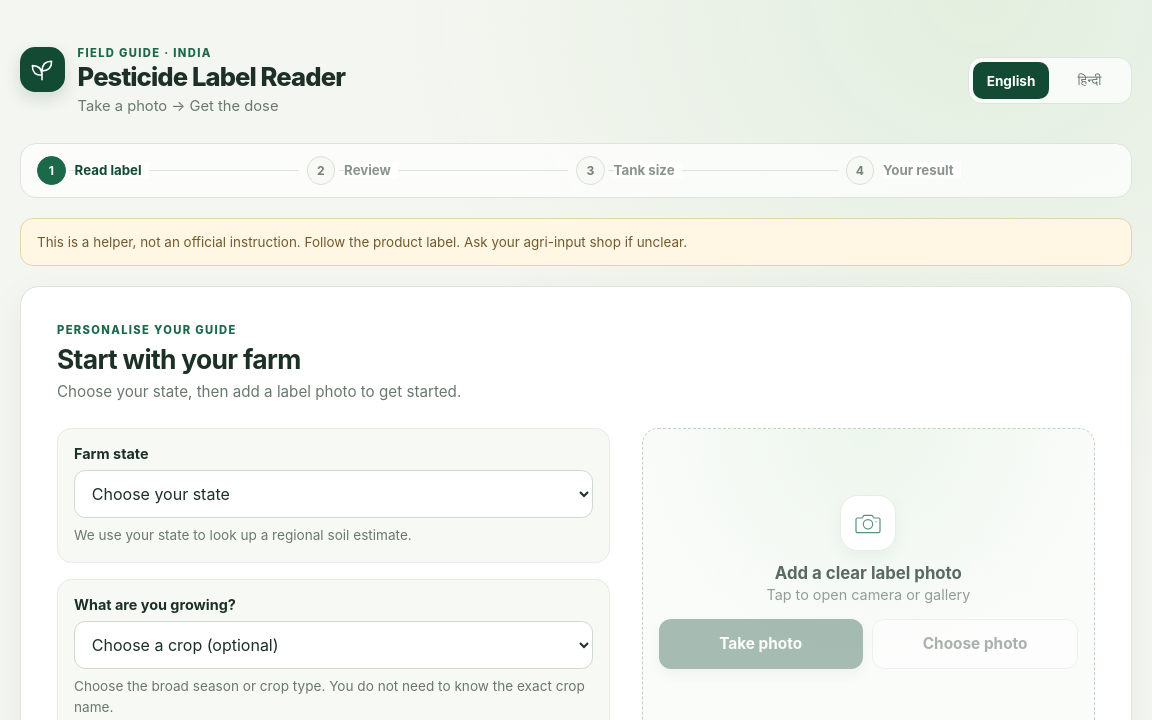
Test: Pesticide label reader flow › surfaces English or Hindi speech controls without changing label values
The width and height of the screenshot is (1152, 720).
Click the button "हिन्दी" at (1089, 81), box x1=1052 y1=62 x2=1127 y2=99
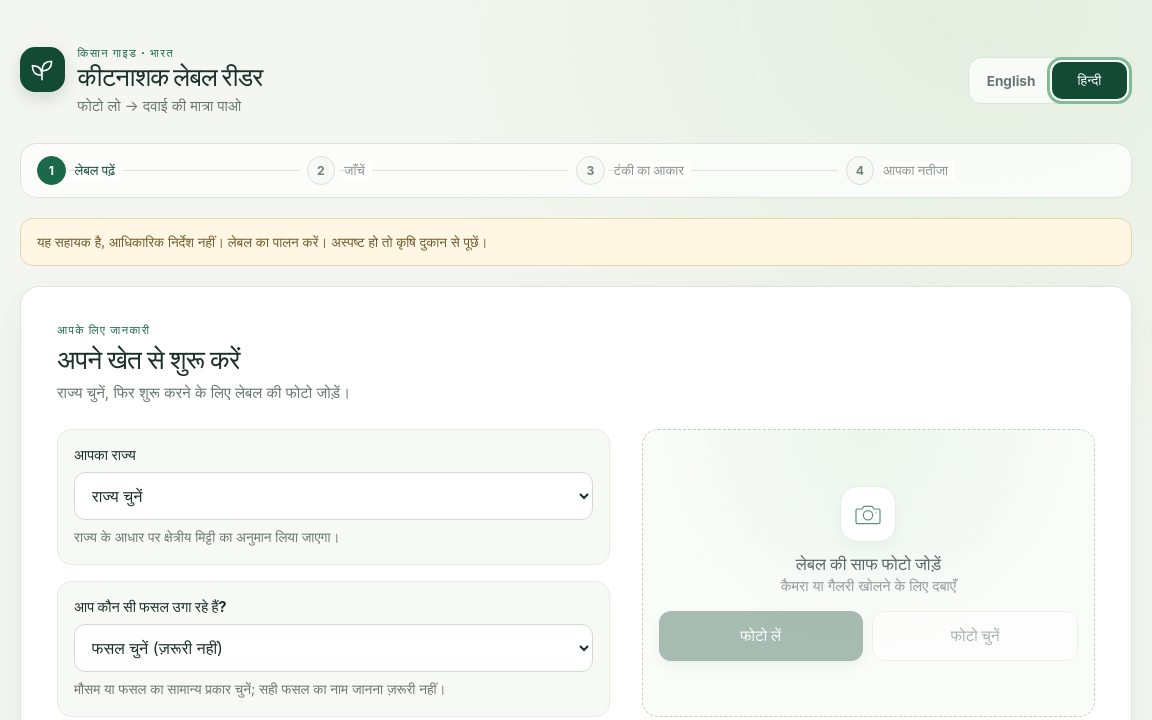
Check: the text "आपका राज्य" is shown, box x1=74 y1=446 x2=136 y2=463
Check: the text "कैमरा या गैलरी खोलने के लिए दबाएँ" is shown, box x1=781 y1=577 x2=956 y2=595
